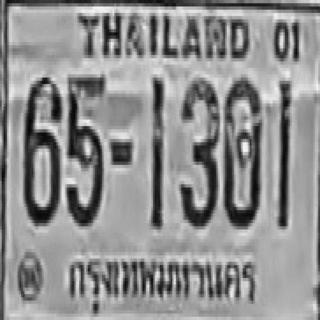N00: (222, 74, 261, 223)
N01: (276, 78, 290, 226), (150, 74, 163, 226), (277, 79, 289, 228)
N03: (179, 76, 218, 225)
N05: (65, 71, 104, 223)
N06: (22, 74, 61, 223)
P04: (59, 248, 261, 318)
